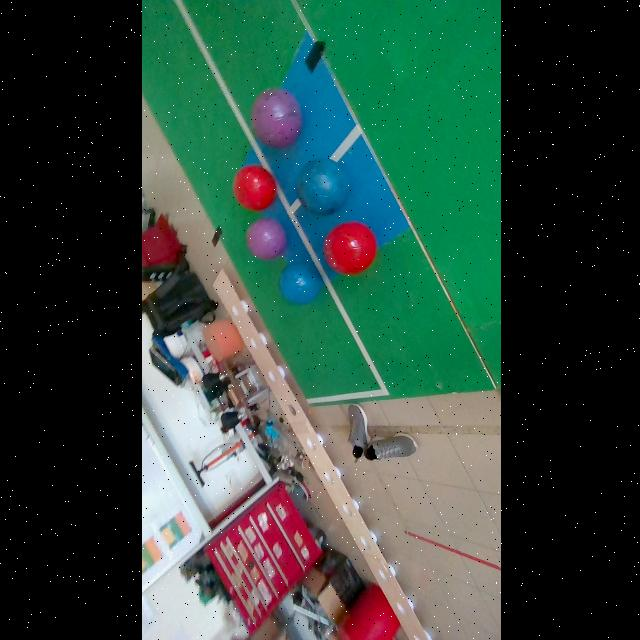B: (295, 158, 347, 216), (277, 263, 321, 305)
P: (249, 88, 300, 148), (244, 218, 284, 260)
R: (322, 222, 374, 276), (231, 165, 274, 211)
